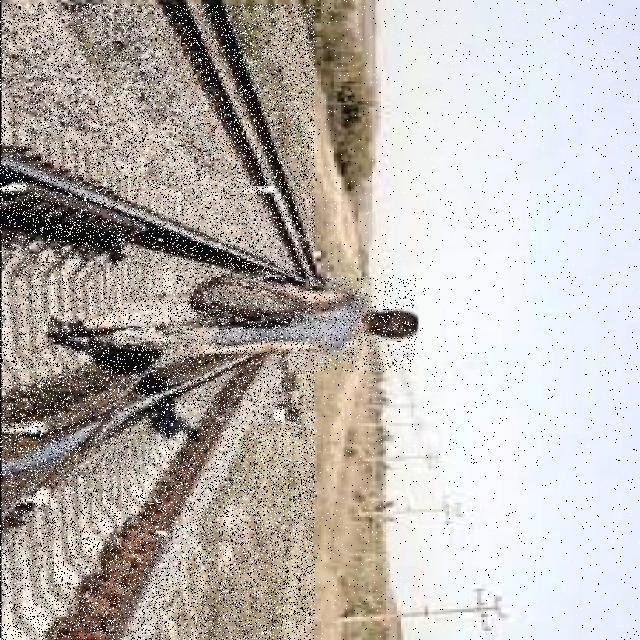danger: (44, 277, 416, 372)
rail: (0, 4, 315, 640)
